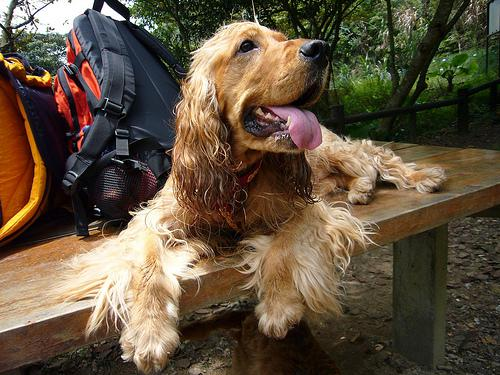dog-english_cocker_spaniel: (173, 21, 328, 198)
